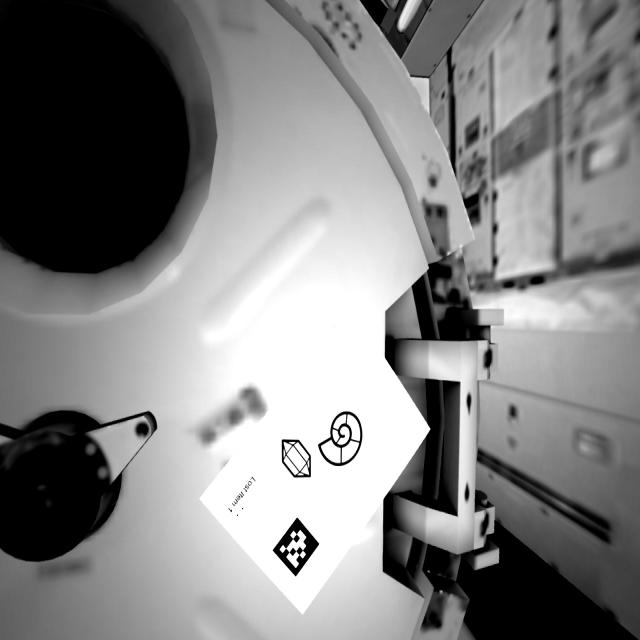crystal: (275, 431, 319, 488)
fossil: (319, 409, 365, 473)
